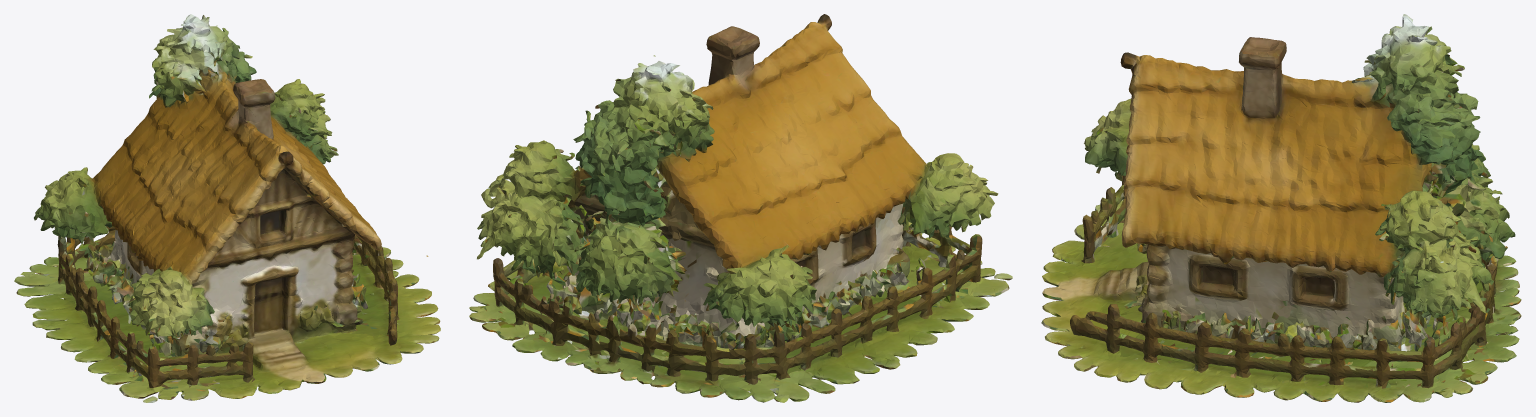
The model's file is wc-cottage_a-paint.glb.
3 views of the same model, side by side, from view 1: azimuth 30°, elevation 25°; view 2: azimuth 150°, elevation 25°; view 3: azimuth 270°, elevation 25° (orthographic). The views are drawn at different scales.
Visible parts, largest first — view 1: geometry_0; view 2: geometry_0; view 3: geometry_0.
Part boxes in pixels (x1,y1,x2,y2): geometry_0: (14, 14, 440, 402); geometry_0: (469, 14, 1012, 402); geometry_0: (1041, 14, 1521, 402).
Bounding box in the file's own units: 2 × 1.33 × 1.99.
Materials: 1 (1 with a texture image).
